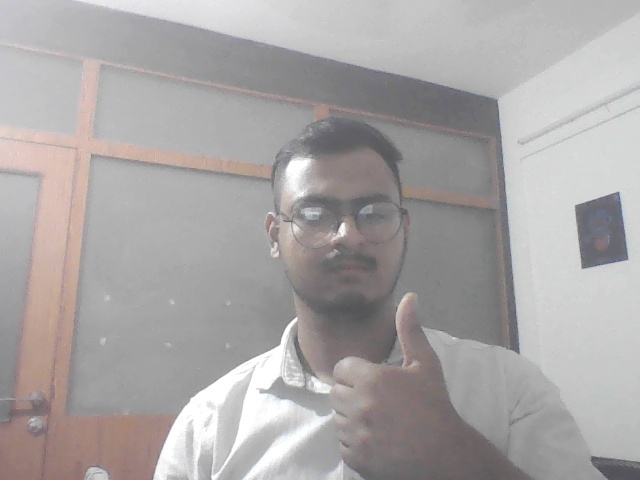Good: (325, 286, 450, 480)
